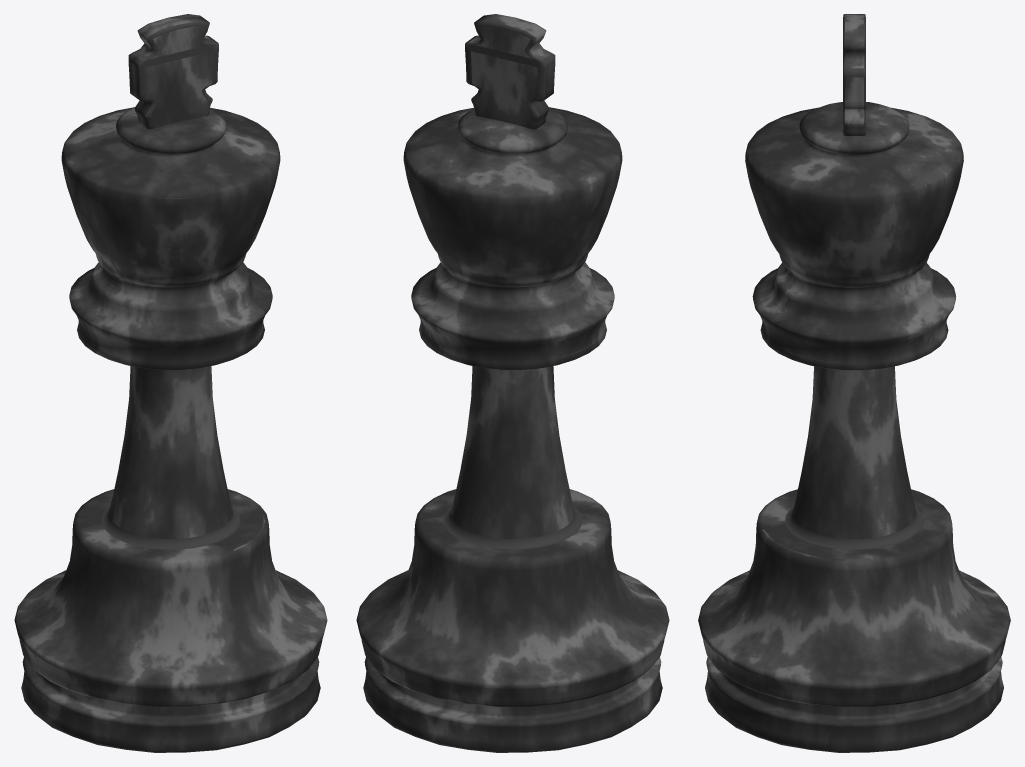
The model's file is king.gltf.
The picture shows the model from 3 angles, left to right: view 1: azimuth 30°, elevation 25°; view 2: azimuth 150°, elevation 25°; view 3: azimuth 270°, elevation 25°; orthographic projection.
Parts seen in each view (by area): view 1: King_W; view 2: King_W; view 3: King_W.
Boxes of the visible parts, x1,y1,x2,y2 form: King_W: (14,14,327,752); King_W: (356,14,669,752); King_W: (698,14,1010,752).
Size of the model in its own units: 0.0492 by 0.1169 by 0.0495.
1 material, 1 textured.
